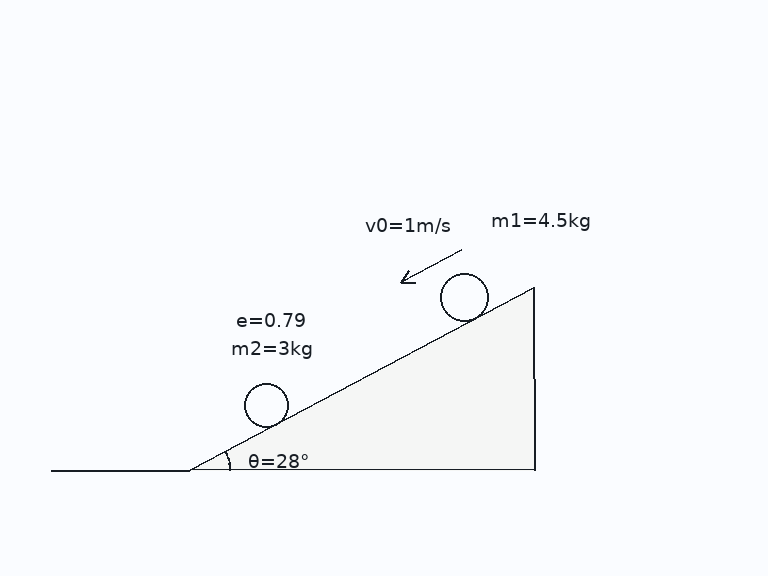ball: (438, 271, 490, 323), (242, 381, 290, 429)
ramp: (188, 285, 535, 472)
